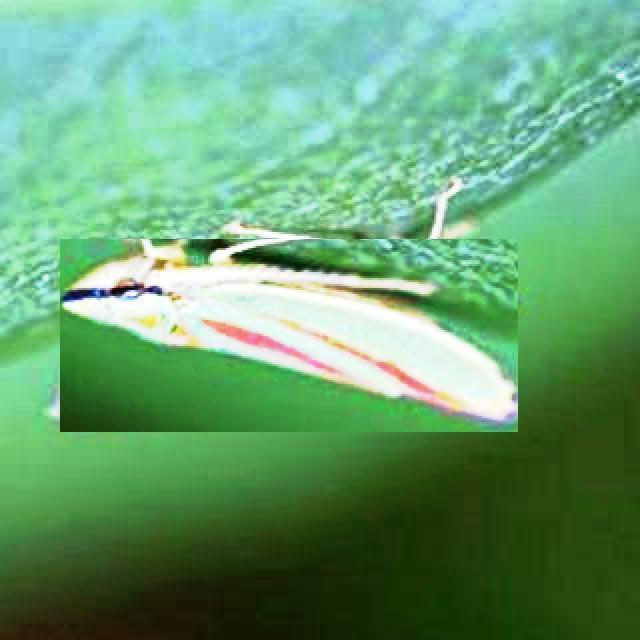green-leafhopper: (60, 239, 518, 432)
